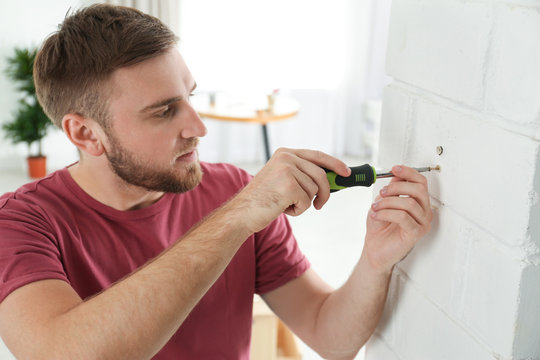screwdriver: (326, 166, 439, 188)
